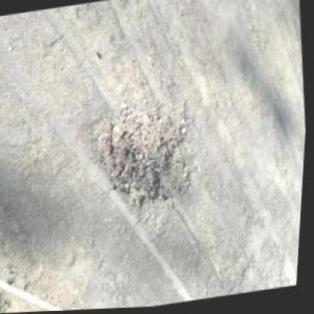Hueco: (92, 103, 197, 211)
